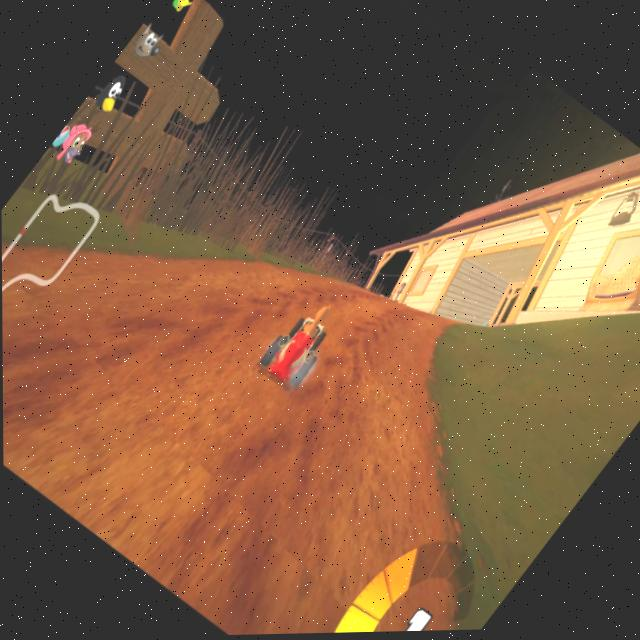off_track: (426, 266, 640, 503), (151, 93, 382, 296)
player_kart: (248, 293, 346, 399)
track: (358, 285, 447, 369)
